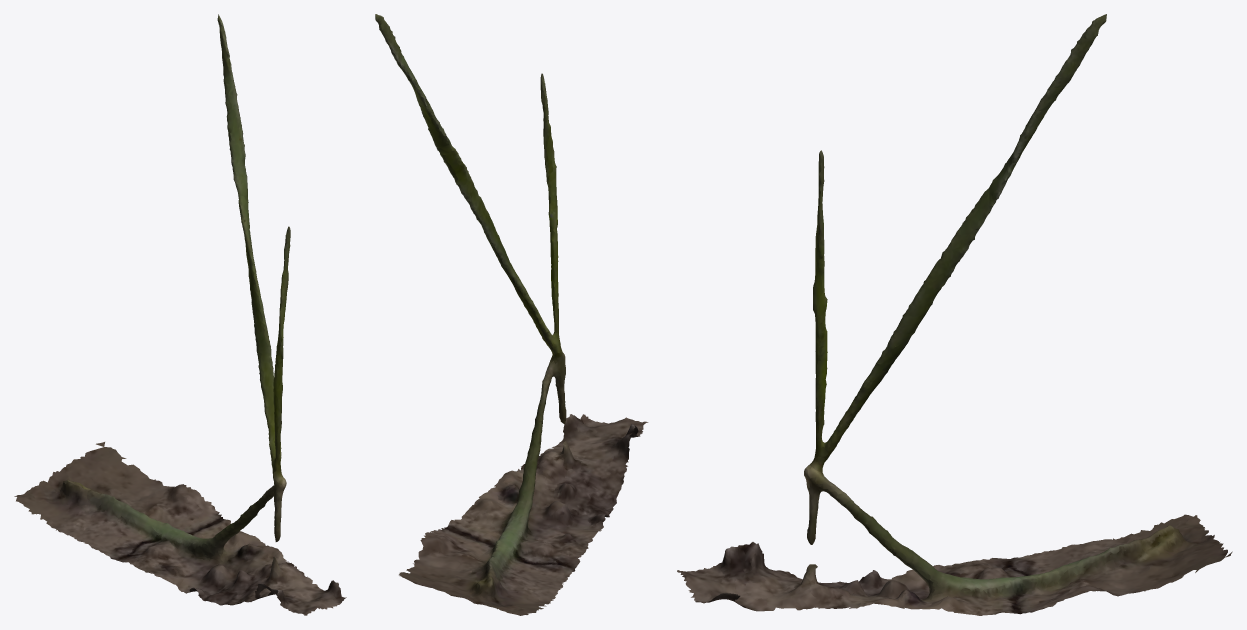
File: Day15.glb
3 views of the same model, side by side, from view 1: azimuth 30°, elevation 25°; view 2: azimuth 150°, elevation 25°; view 3: azimuth 270°, elevation 25° (orthographic). The views are drawn at different scales.
Parts seen in each view (by area): view 1: Day15; view 2: Day15; view 3: Day15.
Part boxes in pixels (x1,y1,x2,y2): Day15: (14, 14, 346, 615); Day15: (375, 14, 648, 615); Day15: (677, 14, 1232, 615).
Bounding box in the file's own units: 0.2576 × 0.6934 × 0.5452.
Materials: 43 (43 with a texture image).
